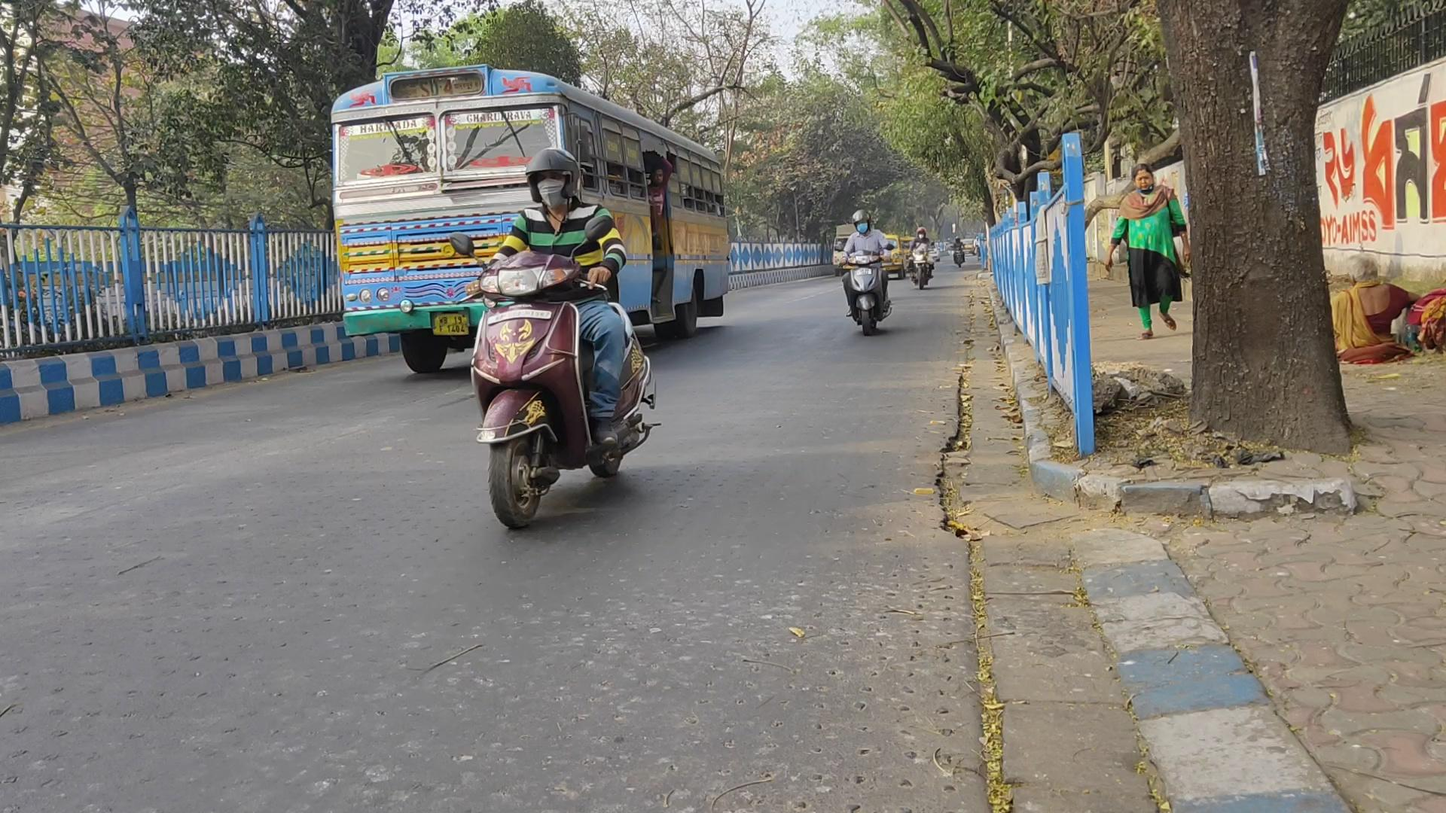Bus: (330, 62, 728, 373)
bike: (456, 148, 660, 531), (842, 210, 892, 334), (907, 227, 935, 291), (950, 236, 966, 269)
